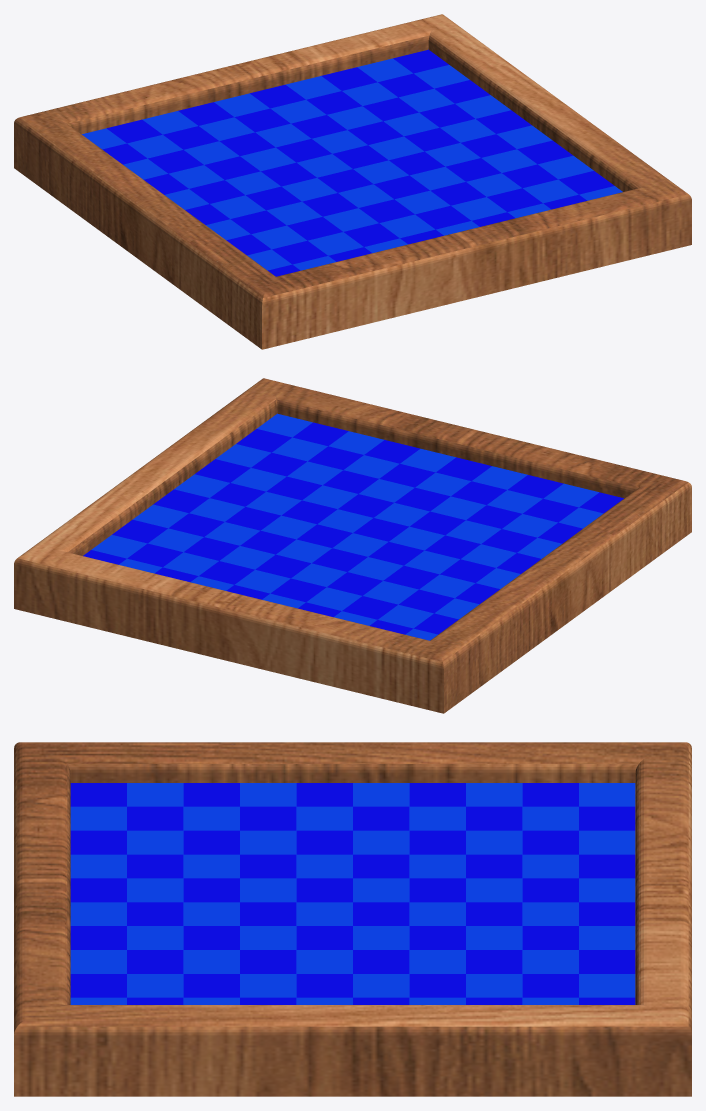
The model's file is War Table.fbx.
3 views of the same model, one above another, from view 1: azimuth 30°, elevation 25°; view 2: azimuth 150°, elevation 25°; view 3: azimuth 270°, elevation 25° (orthographic). The views are drawn at different scales.
Parts seen in each view (by area): view 1: Plane; view 2: Plane; view 3: Plane.
Boxes of the visible parts, x1,y1,x2,y2 form: Plane: (14,14,691,349); Plane: (14,378,691,713); Plane: (14,742,691,1096).
Size of the model in its own units: 300 by 35 by 300.
Materials: 3 (1 with a texture image).
